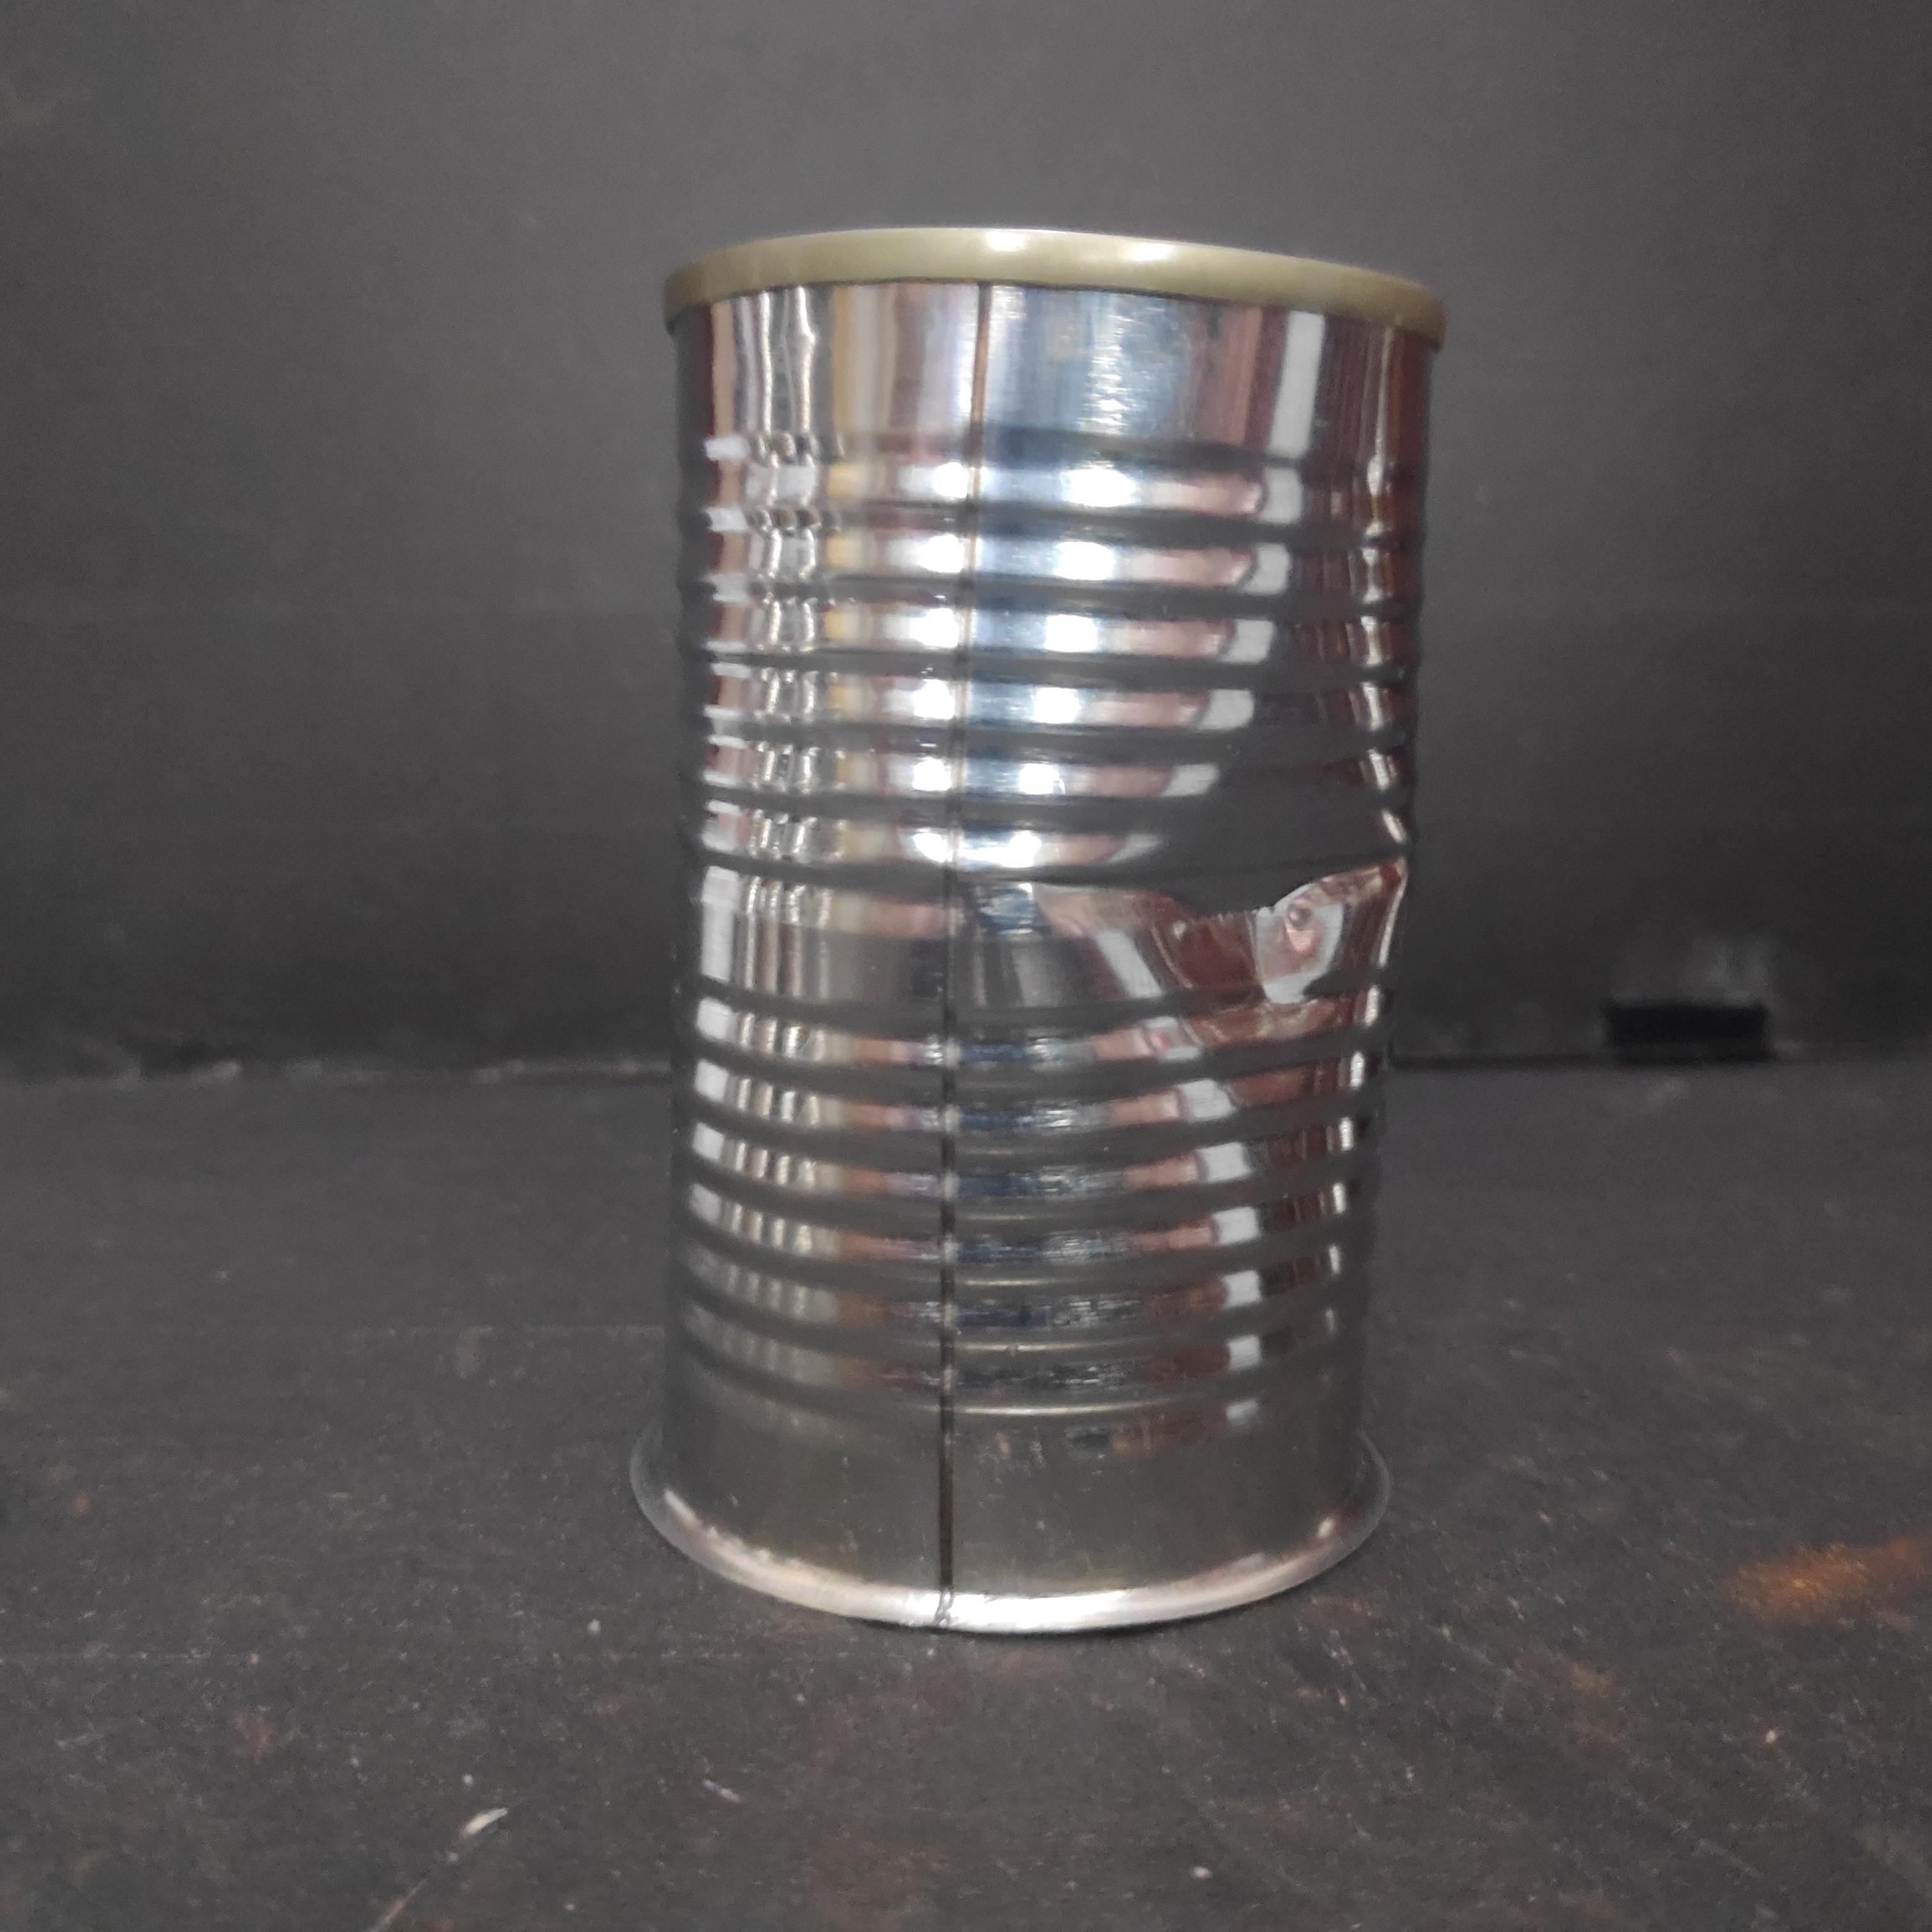Minor Defect: (637, 209, 1460, 1654)
